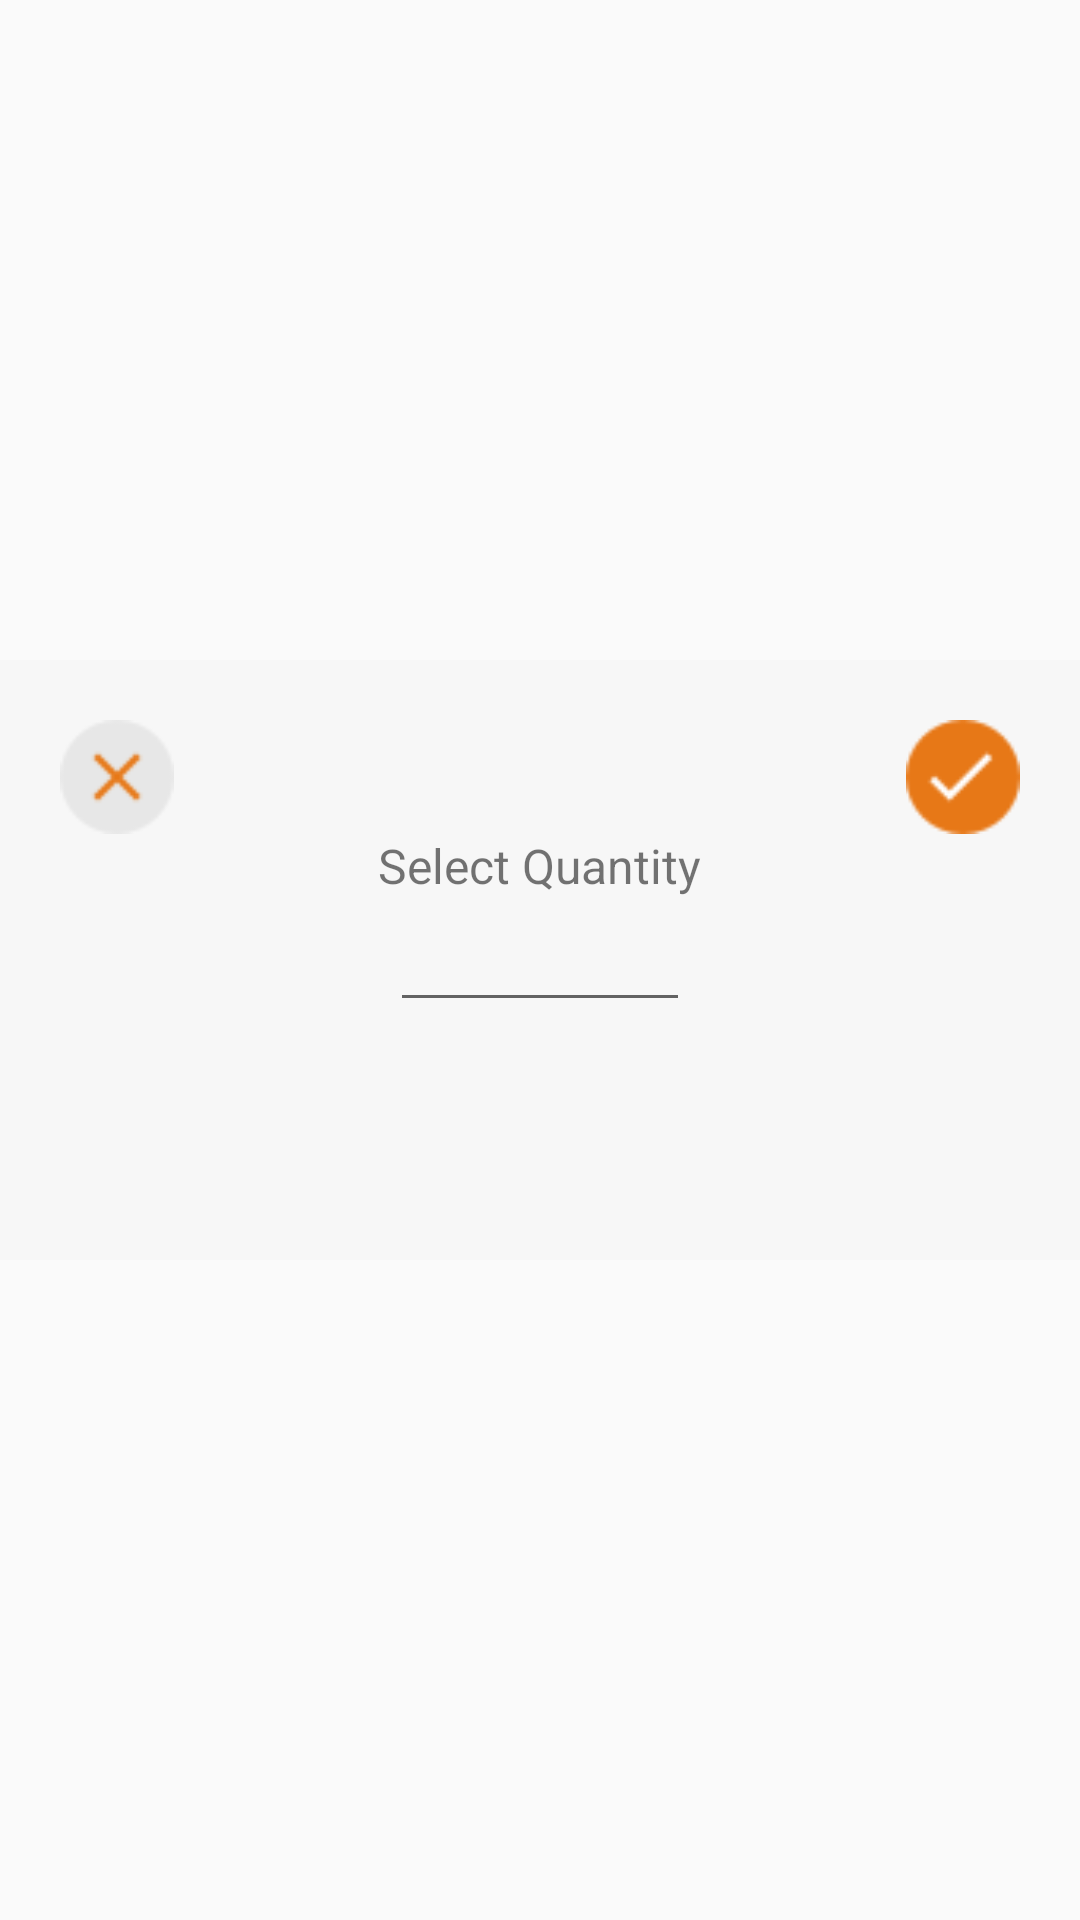

Where to tap for icons on this 1080px x 1920px app screen, as (x,y):
close: (117,777)
select: (963,777)
